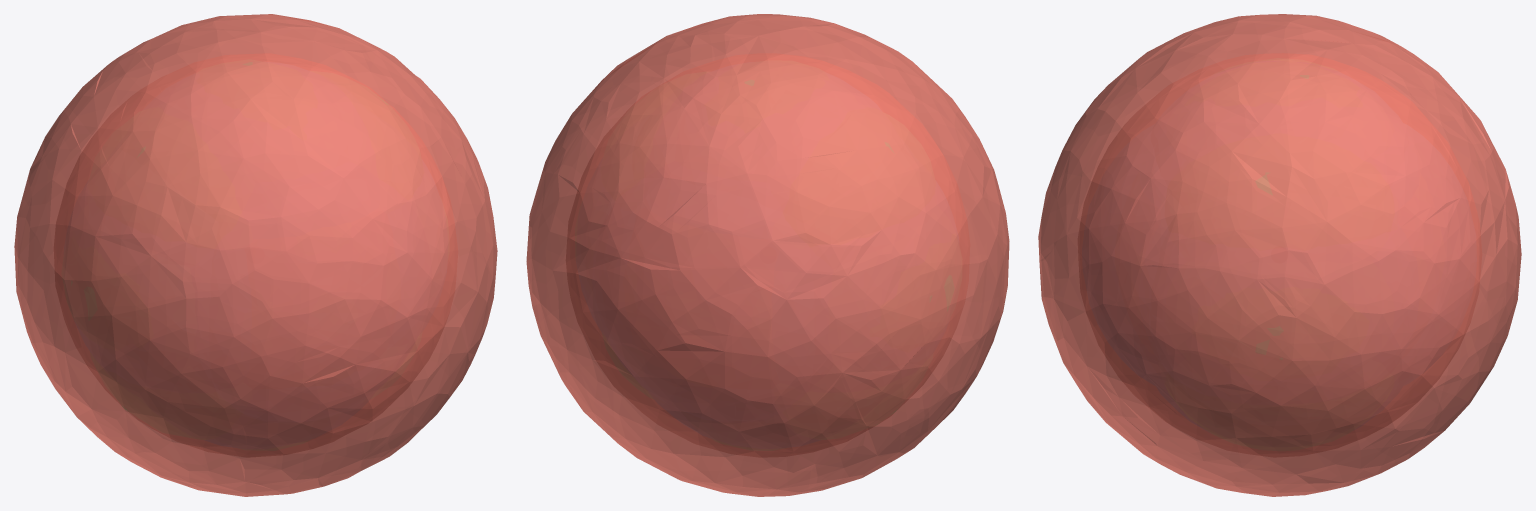
3 views of the same model, side by side, from view 1: azimuth 30°, elevation 25°; view 2: azimuth 150°, elevation 25°; view 3: azimuth 270°, elevation 25° (orthographic).
Visible parts, largest first — view 1: Hf_n6_s_ml0_node, Hf_n5_s_ml0_node; view 2: Hf_n6_s_ml0_node, Hf_n5_s_ml0_node; view 3: Hf_n6_s_ml0_node, Hf_n5_s_ml0_node.
Boxes of the visible parts, x1,y1,x2,y2 form: Hf_n6_s_ml0_node: (14,14,497,496); Hf_n5_s_ml0_node: (54,53,457,457); Hf_n6_s_ml0_node: (526,14,1009,496); Hf_n5_s_ml0_node: (566,53,969,457); Hf_n6_s_ml0_node: (1038,14,1521,496); Hf_n5_s_ml0_node: (1078,53,1481,457).
Bounding box in the file's own units: 3.06 × 3.06 × 3.06.
